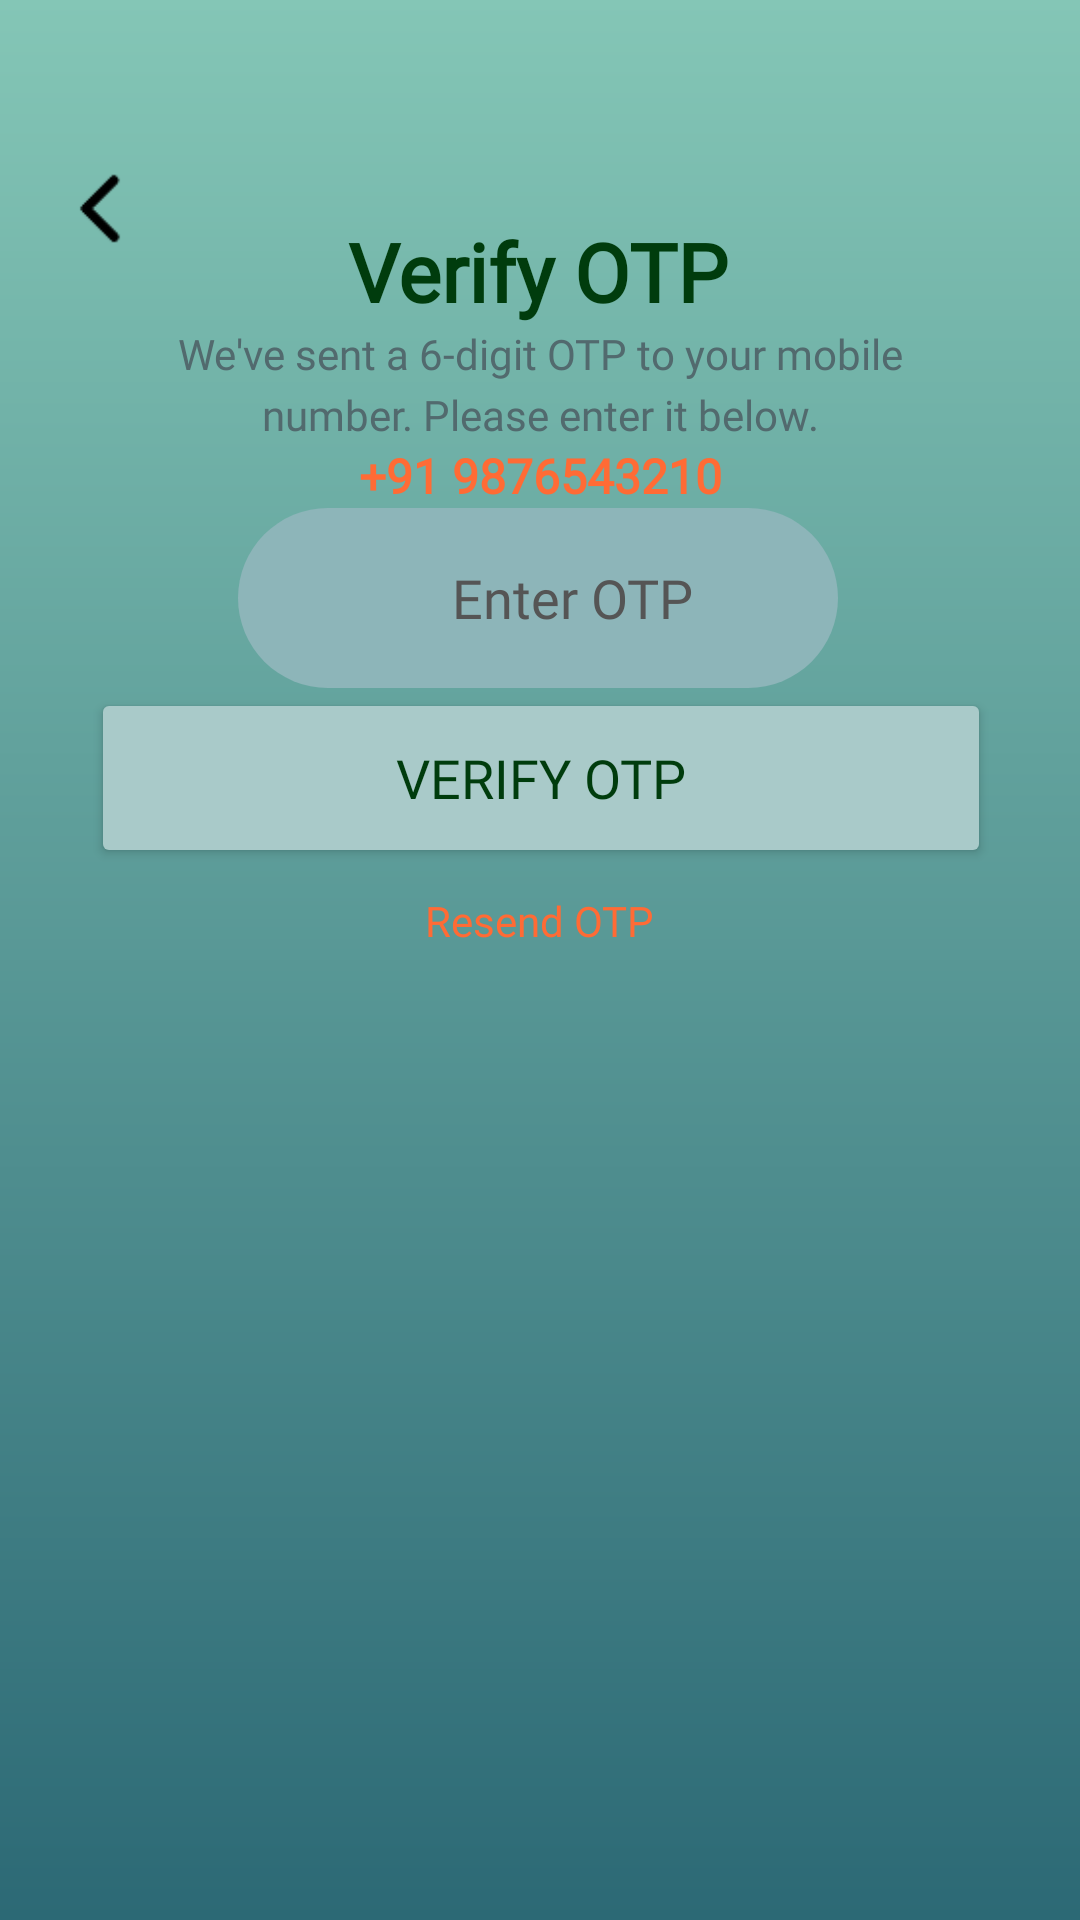

Screen size 1080px×1920px. Icon name, then its center in pixels as point (x, y):
back: point (100, 208)
